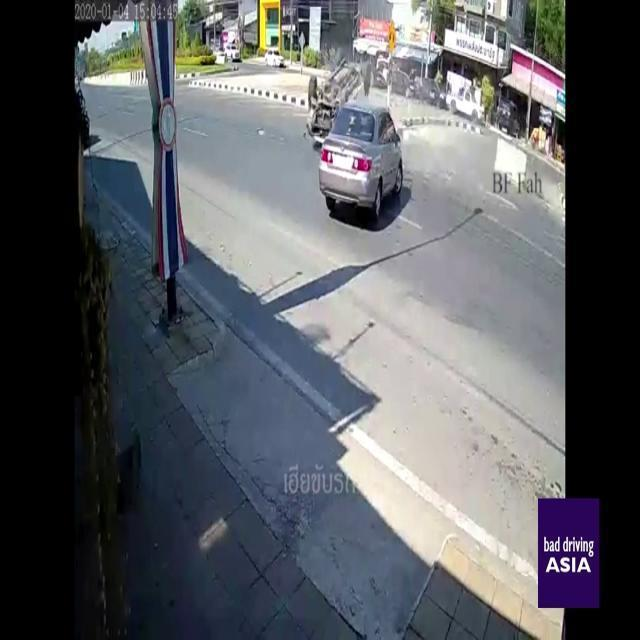accident: (302, 48, 404, 232)
non-accident: (386, 68, 440, 104)
